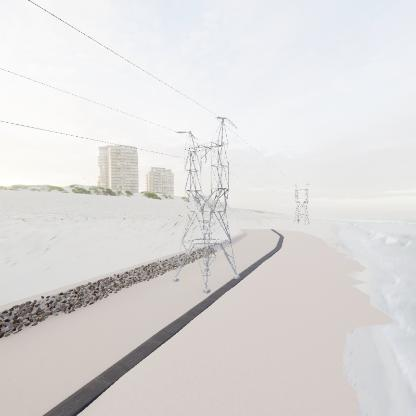tower: (168, 114, 242, 296), (290, 180, 313, 225)
